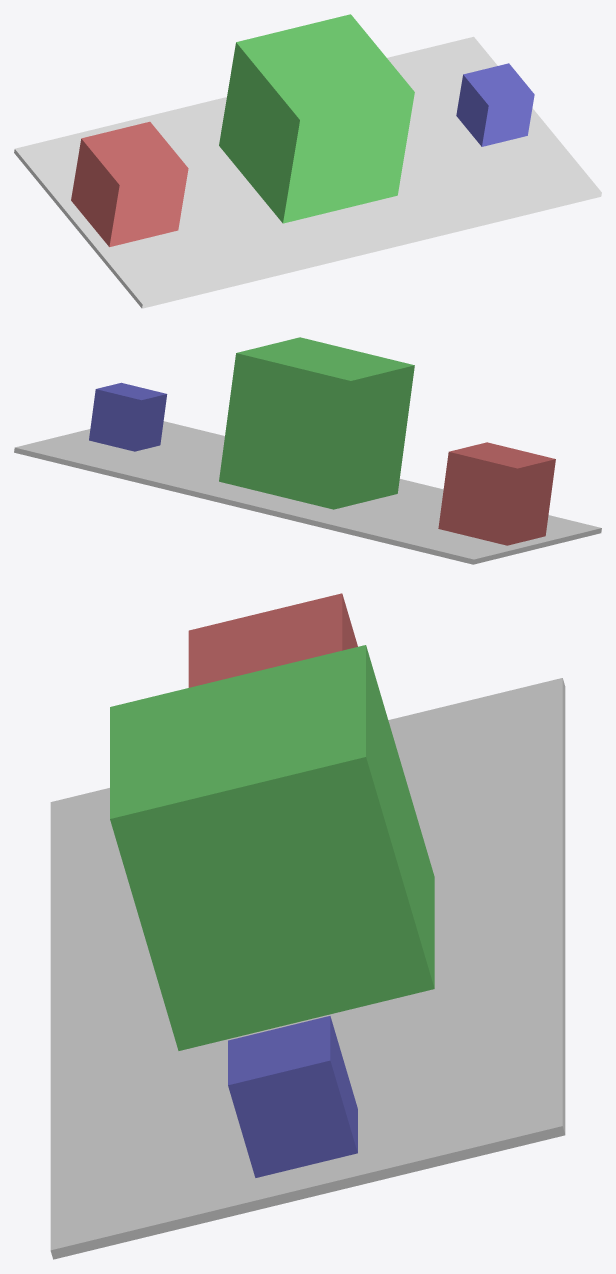
Rendered from value_resolution_attr.glb.
The picture shows the model from 3 angles, top to bottom: view 1: azimuth 30°, elevation 25°; view 2: azimuth 150°, elevation 25°; view 3: azimuth 270°, elevation 25°; orthographic projection. The views are drawn at different scales.
Parts seen in each view (by area): view 1: Ground, AnimCube, StaticCube, StaticDefaultCube; view 2: AnimCube, Ground, StaticCube, StaticDefaultCube; view 3: Ground, AnimCube, StaticDefaultCube, StaticCube.
Part boxes in pixels (<box>): Ground: <box>14,36,601,308</box>; AnimCube: <box>219,14,414,223</box>; StaticCube: <box>71,121,188,247</box>; StaticDefaultCube: <box>456,63,534,146</box>; AnimCube: <box>219,337,414,509</box>; Ground: <box>14,421,601,564</box>; StaticCube: <box>438,442,555,545</box>; StaticDefaultCube: <box>89,382,167,451</box>; Ground: <box>50,678,565,1259</box>; AnimCube: <box>110,645,434,1050</box>; StaticDefaultCube: <box>228,1016,357,1177</box>; StaticCube: <box>188,593,357,687</box>.
Bounding box in the file's own units: 20 × 6.96 × 9.71.
